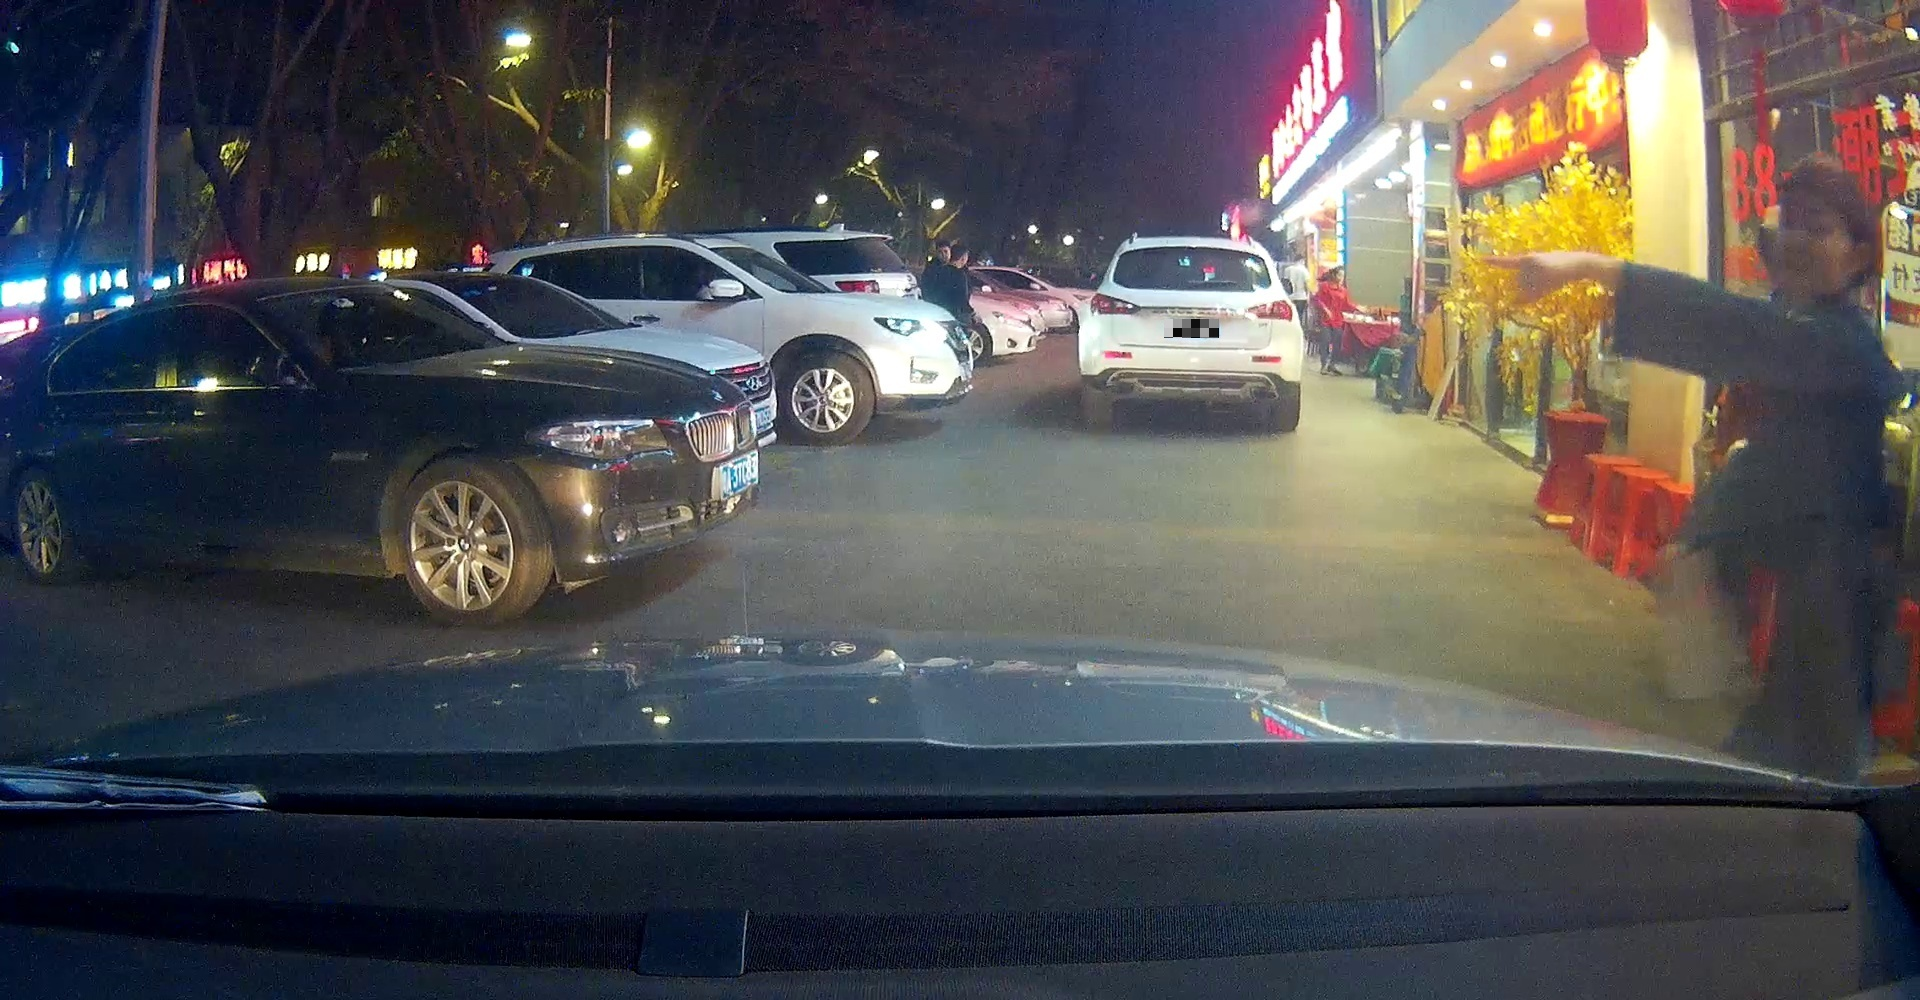L_light: (1090, 293, 1142, 316)
R_light: (1244, 299, 1293, 322)
T_light: (1176, 246, 1209, 253)
night-no: (1077, 236, 1303, 431)
plate_1: (1164, 319, 1219, 338)
